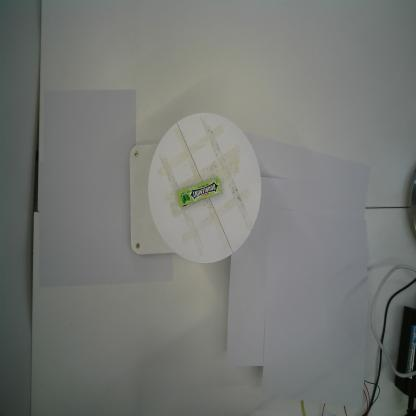Gum: (177, 177, 222, 208)
